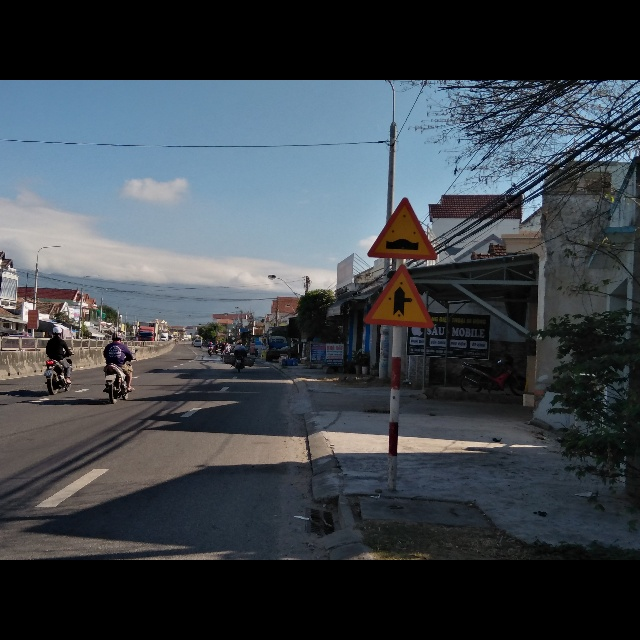Giao nhau với đường không ưu tiên: (362, 264, 438, 328)
Đường không bằng phẳng: (368, 195, 438, 261)
